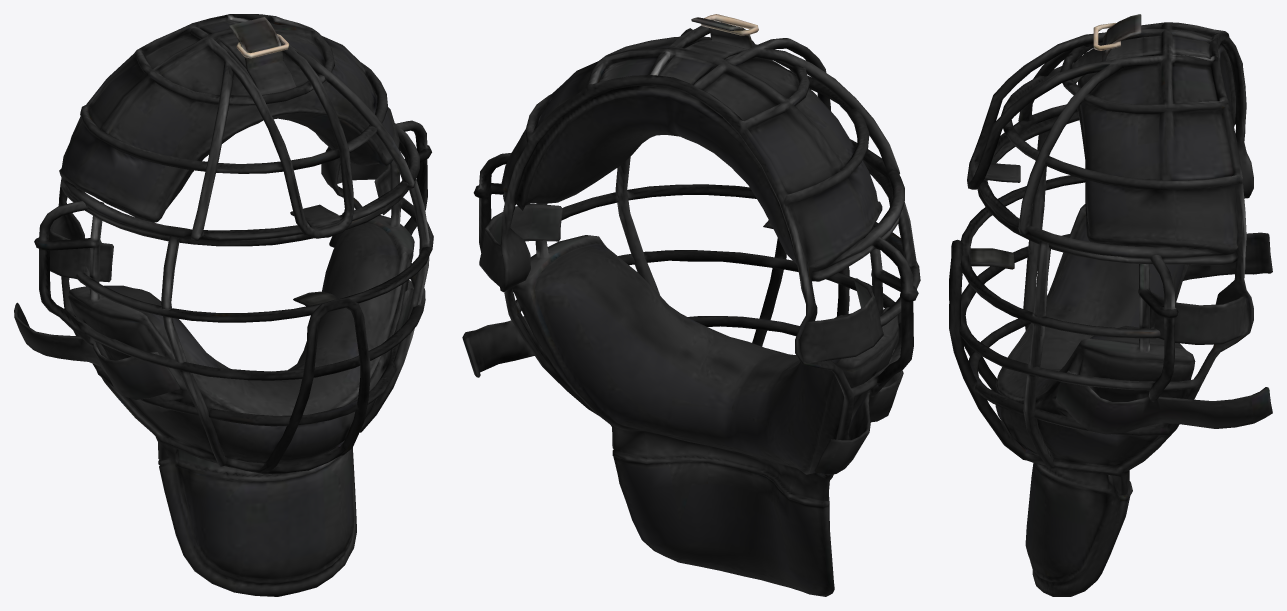
File: mask.glb
The picture shows the model from 3 angles, left to right: view 1: azimuth 30°, elevation 25°; view 2: azimuth 150°, elevation 25°; view 3: azimuth 270°, elevation 25°; orthographic projection. The views are drawn at different scales.
Parts seen in each view (by area): view 1: tripo_node_f489efa8-f4ad-4bf3-912c-38b269d9b075; view 2: tripo_node_f489efa8-f4ad-4bf3-912c-38b269d9b075; view 3: tripo_node_f489efa8-f4ad-4bf3-912c-38b269d9b075.
Part boxes in pixels (x1=…): tripo_node_f489efa8-f4ad-4bf3-912c-38b269d9b075: x1=14, y1=14, x2=433, y2=596; tripo_node_f489efa8-f4ad-4bf3-912c-38b269d9b075: x1=462, y1=14, x2=920, y2=596; tripo_node_f489efa8-f4ad-4bf3-912c-38b269d9b075: x1=949, y1=14, x2=1272, y2=596.
Bounding box in the file's own units: 0.7548 × 0.9764 × 0.5178.
Materials: 1 (1 with a texture image).
